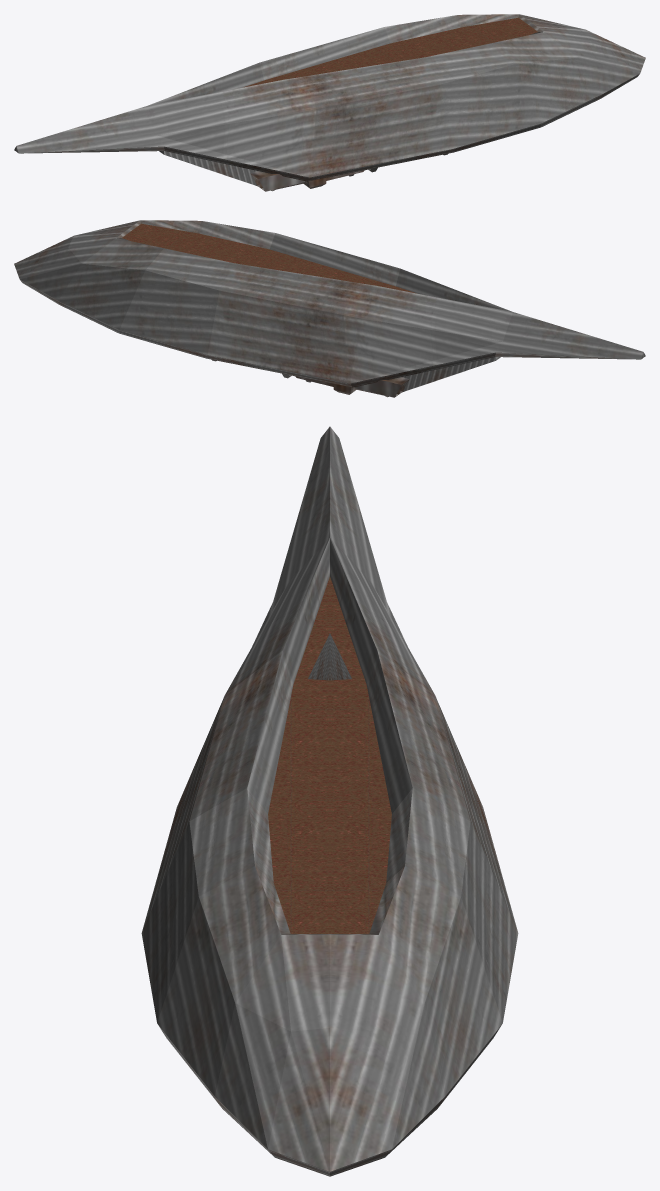
File: Shuttle.fbx
3 renders of one model, top to bottom at view 1: azimuth 30°, elevation 25°; view 2: azimuth 150°, elevation 25°; view 3: azimuth 270°, elevation 25°, orthographic. The views are drawn at different scales.
Parts seen in each view (by area): view 1: Shuttle, Cube; view 2: Shuttle, Cube; view 3: Shuttle.
Part boxes in pixels (x1,y1,x2,y2): Shuttle: (14, 14, 645, 191); Cube: (250, 170, 364, 191); Shuttle: (14, 220, 645, 397); Cube: (295, 376, 409, 397); Shuttle: (141, 426, 518, 1176).
Bounding box in the file's own units: 23520 × 90785 × 16117.
Materials: 4 (3 with a texture image).
